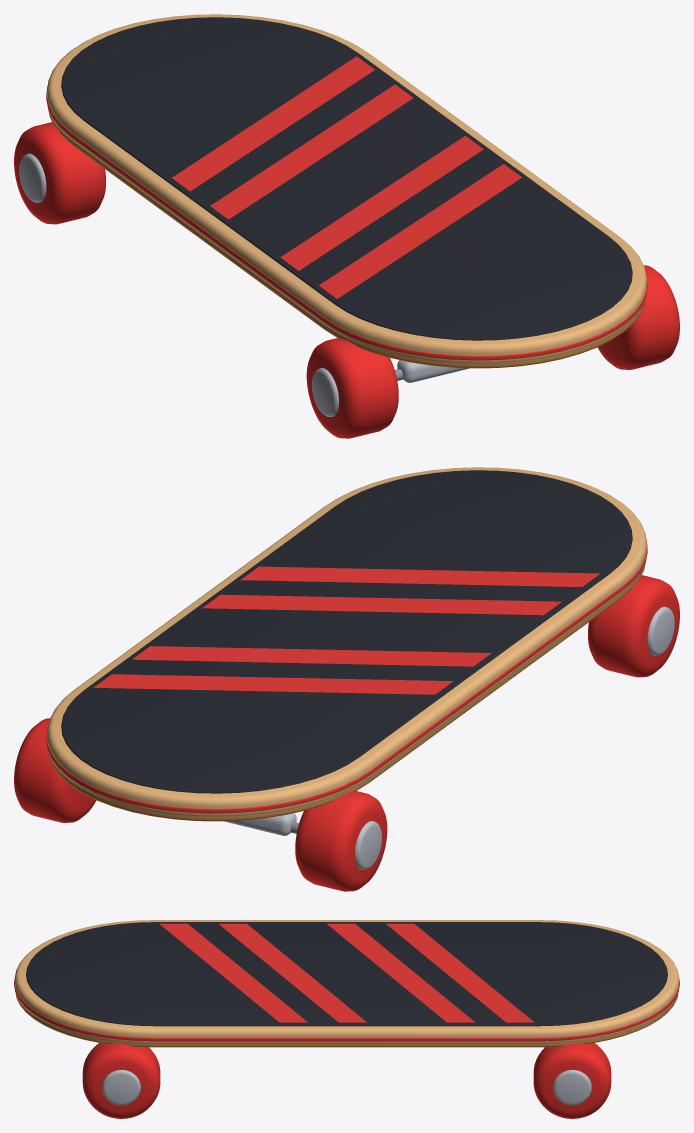
Rendered from PartyBoard.fbx.
3 renders of one model, top to bottom at view 1: azimuth 30°, elevation 25°; view 2: azimuth 150°, elevation 25°; view 3: azimuth 270°, elevation 25°, orthographic. The views are drawn at different scales.
Visible parts, largest first — view 1: Grip, Deck, Tire, Tire.002, Band, Band.002, Band.003, Band.001, Tire.001, Stripe, DeckEdge, Hub.002 (+2 smaller); view 2: Grip, Deck, Tire.002, Tire, Band.002, Band.003, Band.001, Band, Tire.003, Stripe, DeckEdge, Hub (+2 smaller); view 3: Grip, Deck, Tire.001, Tire.003, DeckEdge, Band.003, Band, Band.002, Band.001, Stripe, Hub.001, Hub.003.
Part boxes in pixels (x1,y1,x2,y2): Grip: (61, 17, 632, 340); Deck: (47, 14, 646, 363); Tire: (306, 338, 398, 438); Tire.002: (14, 122, 105, 224); Band: (280, 136, 483, 270); Band.002: (210, 84, 413, 219); Band.003: (172, 56, 374, 191); Band.001: (319, 164, 521, 298); Tire.001: (597, 265, 679, 369); Stripe: (46, 86, 647, 360); DeckEdge: (47, 107, 645, 368); Hub.002: (19, 153, 46, 202); Grip: (61, 470, 632, 793); Deck: (47, 467, 646, 816); Tire.002: (295, 791, 387, 891); Tire: (588, 575, 679, 677); Band.002: (132, 646, 491, 666); Band.003: (93, 674, 453, 694); Band.001: (240, 566, 599, 586); Band: (202, 594, 561, 615); Tire.003: (14, 718, 96, 822); Stripe: (46, 539, 647, 813); DeckEdge: (48, 560, 646, 821); Hub: (647, 606, 674, 655); Grip: (26, 922, 667, 1026); Deck: (14, 920, 679, 1043); Tire.001: (82, 1043, 160, 1118); Tire.003: (533, 1043, 611, 1118); DeckEdge: (15, 993, 678, 1047); Band.003: (386, 923, 534, 1022); Band: (218, 923, 366, 1022); Band.002: (327, 923, 475, 1022); Band.001: (159, 923, 307, 1022); Stripe: (14, 975, 679, 1041); Hub.001: (102, 1070, 140, 1105); Hub.003: (553, 1070, 591, 1105).
Bounding box in the file's own units: 2.74 × 0.864 × 6.01.
